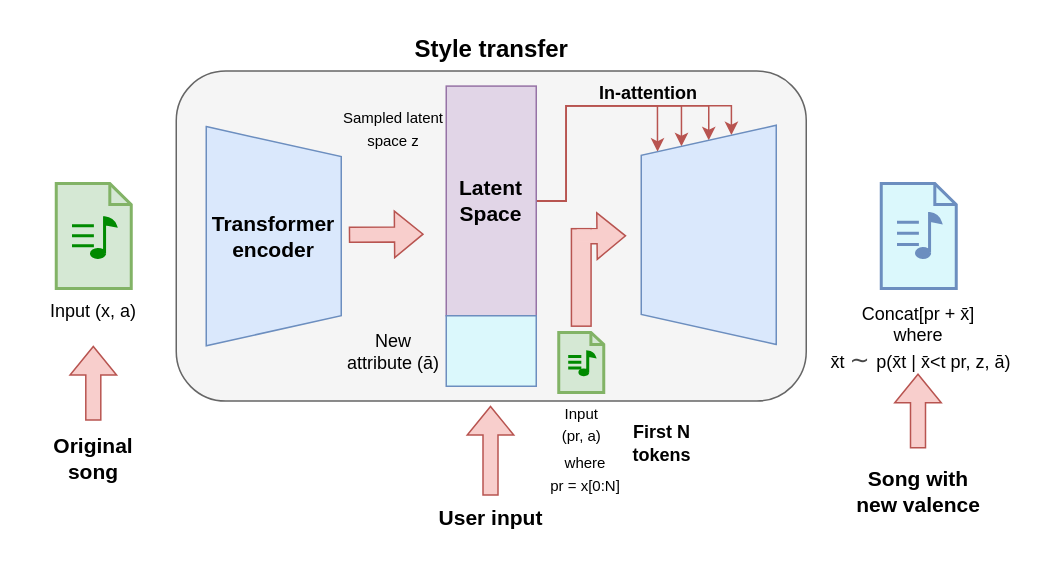
Image size: 1041x567. Some labels were removed from this diagram. The shapes that lost their labels are listed below. From the top down, each one's centre as x and y in pixels, then its label:
At point (708, 234): "Transformer decoder".
At point (490, 350): "Valence".
